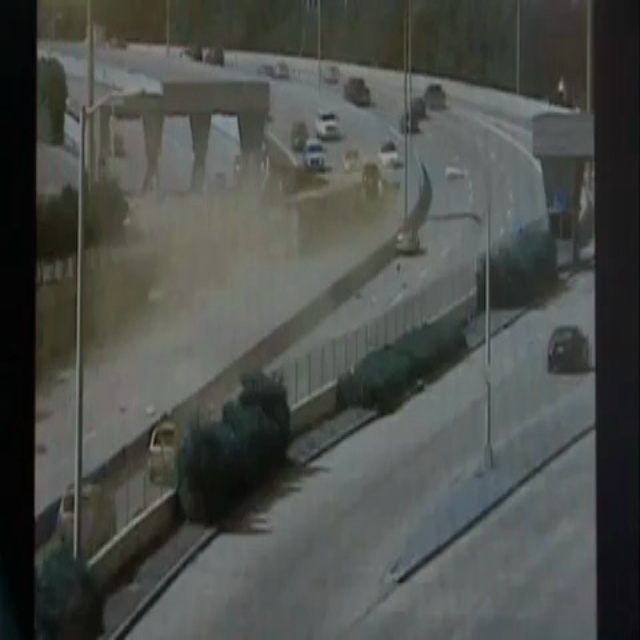acc: (274, 169, 392, 242)
